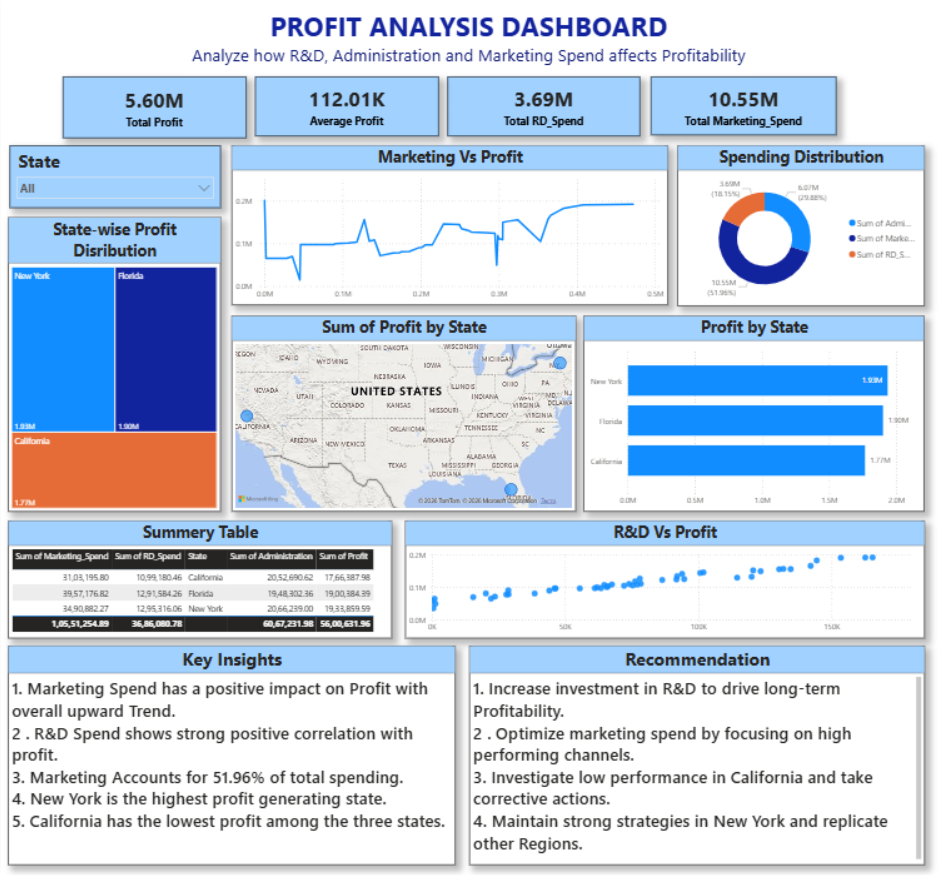

Layout of this report page (visuals, bound fields, positions):
{"tool":"powerbi","page":{"name":"Page 1","canvas":[1500,1400],"ordinal":0},"visuals":[{"type":"card","fields":{"Values":["Sum(Profit Analysis.Profit)"]},"box":[100,121.7,293.3,98.3],"z":0},{"type":"card","fields":{"Values":["Sum(Profit Analysis.RD_Spend)"]},"box":[715,123.3,308.3,95],"z":1000},{"type":"card","fields":{"Values":["Avg(Profit Analysis.Profit)"]},"box":[406.7,123.3,293.3,95],"z":2000},{"type":"card","fields":{"Values":["Sum(Profit Analysis.Marketing_Spend)"]},"box":[1040,123.3,296.7,93.3],"z":3000},{"type":"textbox","box":[293.3,6.7,913.3,110],"z":4000},{"type":"slicer","fields":{"Values":["Profit Analysis.State"]},"box":[15,232.5,337.5,100],"z":5000},{"type":"lineChart","title":"Marketing Vs Profit","fields":{"Category":["Profit Analysis.Marketing_Spend"],"Y":["Sum(Profit Analysis.Profit)"]},"box":[370,232.5,697.5,255],"z":6000},{"type":"treemap","title":"State-wise Profit Disribution","fields":{"Values":["Sum(Profit Analysis.Profit)"],"Group":["Profit Analysis.State"]},"box":[12.5,347.5,340,470],"z":7000},{"type":"map","fields":{"Size":["Sum(Profit Analysis.Profit)"],"Category":["Profit Analysis.State"]},"box":[370,505,550,312.5],"z":8000},{"type":"donutChart","title":"Spending Distribution","fields":{"Y":["Sum(Profit Analysis.Administration)","Sum(Profit Analysis.Marketing_Spend)","Sum(Profit Analysis.RD_Spend)"]},"box":[1083.3,231.7,395,256.7],"z":9000},{"type":"tableEx","title":"Summery Table","fields":{"Values":["Sum(Profit Analysis.Marketing_Spend)","Sum(Profit Analysis.RD_Spend)","Profit Analysis.State","Sum(Profit Analysis.Administration)","Sum(Profit Analysis.Profit)"]},"box":[13.3,831.7,613.3,188.3],"z":10000},{"type":"barChart","title":" Profit by State","fields":{"Category":["Profit Analysis.State"],"Y":["Sum(Profit Analysis.Profit)"]},"box":[932.5,505,545,312.5],"z":11000},{"type":"scatterChart","title":"R&D Vs Profit","fields":{"Y":["Sum(Profit Analysis.Profit)"],"X":["Profit Analysis.RD_Spend"]},"box":[648.3,831.7,830,188.3],"z":12000},{"type":"textbox","title":"Key Insights","box":[13.3,1033.3,715,350],"z":13000},{"type":"textbox","title":"Recommendation","box":[750,1033.3,728.3,350],"z":14000}]}

Visuals, with their boxes in screenshot pixels (x1, y1, x2, y2), scaled from the page's 1500x1400 canvas onto the 938x875 screenshot:
card - Sum(Profit Analysis.Profit): bbox(63, 76, 246, 138)
card - Sum(Profit Analysis.RD_Spend): bbox(447, 77, 640, 136)
card - Avg(Profit Analysis.Profit): bbox(254, 77, 438, 136)
card - Sum(Profit Analysis.Marketing_Spend): bbox(650, 77, 836, 135)
textbox: bbox(183, 4, 755, 73)
slicer - Profit Analysis.State: bbox(9, 145, 220, 208)
"Marketing Vs Profit" lineChart: bbox(231, 145, 668, 305)
"State-wise Profit Disribution" treemap: bbox(8, 217, 220, 511)
map - Sum(Profit Analysis.Profit) x Profit Analysis.State: bbox(231, 316, 575, 511)
"Spending Distribution" donutChart: bbox(677, 145, 924, 305)
"Summery Table" tableEx: bbox(8, 520, 392, 638)
" Profit by State" barChart: bbox(583, 316, 924, 511)
"R&D Vs Profit" scatterChart: bbox(405, 520, 924, 638)
"Key Insights" textbox: bbox(8, 646, 455, 865)
"Recommendation" textbox: bbox(469, 646, 924, 865)
